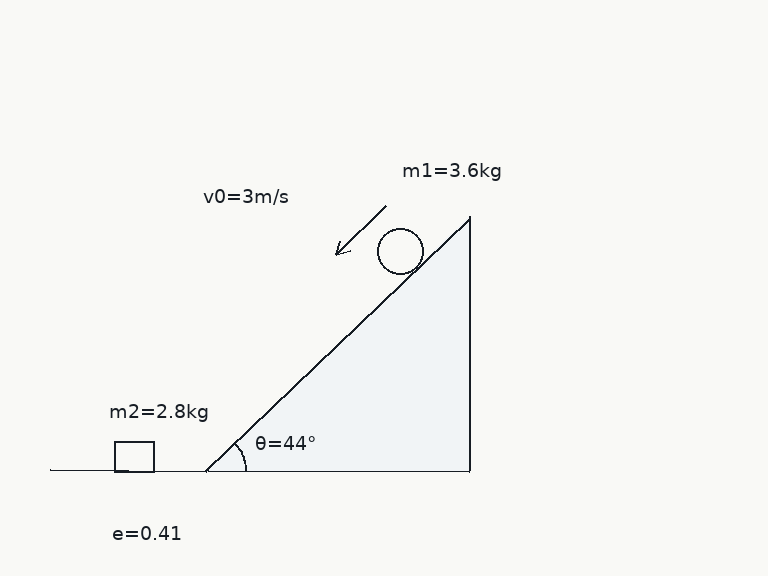ball: (375, 226, 425, 276)
block: (112, 440, 156, 473)
ramp: (204, 215, 471, 473)
